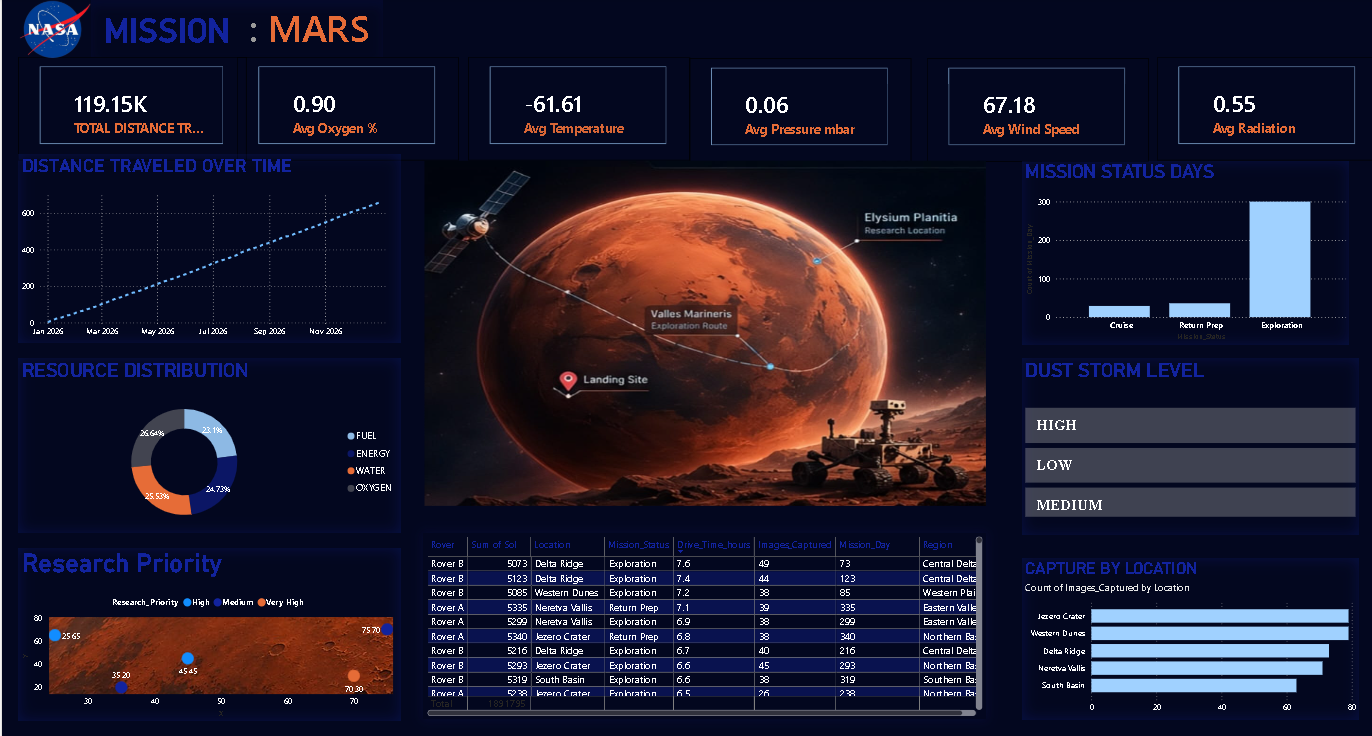

This screenshot's page, from the dashboard's own definition file:
{"tool":"powerbi","page":{"name":"Page 1","canvas":[2000,1080],"ordinal":0},"visuals":[{"type":"cardVisual","title":"DUST STORM LEVEL","fields":{"Rows":["Mars_Weather.Dust_Storm_Level"]},"box":[1482.6,525.1,490.6,258],"z":0},{"type":"cardVisual","fields":{"Data":["Sum(Mission_Log.Rover_Distance_km)"]},"box":[23.8,87.5,332.1,150.1],"z":1000},{"type":"cardVisual","fields":{"Data":["measures (2).Avg Oxygen %"]},"box":[341.6,87.2,322,150.8],"z":2000},{"type":"cardVisual","fields":{"Data":["measures (2).Avg Pressure mbar"]},"box":[999.3,89,322,150.1],"z":3000},{"type":"cardVisual","fields":{"Data":["measures (2).Avg Wind Speed"]},"box":[1344.5,89,322,150.1],"z":4000},{"type":"cardVisual","fields":{"Data":["measures (2).Avg Radiation"]},"box":[1678.8,87.2,322,150.8],"z":5000},{"type":"cardVisual","fields":{"Data":["measures (2).Avg Temperature"]},"box":[677.7,87.2,322,150.1],"z":6000},{"type":"textbox","box":[129,3.6,425.1,83.6],"z":7000},{"type":"lineChart","title":"DISTANCE TRAVELED OVER TIME ","fields":{"Category":["Mission_Log.Date.Variation.Date Hierarchy.Year","Mission_Log.Date.Variation.Date Hierarchy.Month","Mission_Log.Date.Variation.Date Hierarchy.Day"],"Y":["Sum(Mission_Log.Rover_Distance_km)"]},"box":[23.6,228.9,556,274.3],"z":8000},{"type":"donutChart","title":"RESOURCE DISTRIBUTION","fields":{"Y":["Sum(Resources.Fuel_Remaining_pct)","Sum(Resources.Energy_Remaining_pct)","Sum(Resources.Water_Remaining_pct)","Sum(Resources.Oxygen_Remaining_pct)"]},"box":[23.6,525.1,556,254.4],"z":9000},{"type":"columnChart","title":"MISSION STATUS DAYS ","fields":{"Category":["Mission_Log.Mission_Status"],"Y":["CountNonNull(Mission_Log.Mission_Day)"]},"box":[1482.6,238,476,267.1],"z":10000},{"type":"scatterChart","title":"Research Priority","fields":{"X":["Locations.X"],"Y":["Locations.Y"],"Series":["Locations.Research_Priority"]},"box":[23.6,801.2,556,250.7],"z":11000},{"type":"clusteredBarChart","title":"CAPTURE BY LOCATION","fields":{"Y":["CountNonNull(Rover_Activity.Images_Captured)"],"Category":["Mission_Log.Location"]},"box":[1482.6,815.8,490.6,234.4],"z":12000},{"type":"image","box":[614.1,238,815.8,501.5],"z":13000},{"type":"tableEx","fields":{"Values":["Rover_Activity.Rover","Sum(Mission_Log.Sol)","Mission_Log.Location","Mission_Log.Mission_Status","Rover_Activity.Drive_Time_hours","Rover_Activity.Images_Captured","Rover_Activity.Mission_Day","Locations.Region"]},"box":[612.3,779.4,817.6,270.7],"z":14000},{"type":"image","box":[23.6,5.5,107.2,83.6],"z":15000}]}

Visuals, with their boxes in screenshot pixels (x1, y1, x2, y2), scaled from the page's 2000x1080 canvas onto the 1372x736 screenshot:
"DUST STORM LEVEL" cardVisual: bbox=(1017, 358, 1354, 534)
cardVisual - Sum(Mission_Log.Rover_Distance_km): bbox=(16, 60, 244, 162)
cardVisual - measures (2).Avg Oxygen %: bbox=(234, 59, 455, 162)
cardVisual - measures (2).Avg Pressure mbar: bbox=(686, 61, 906, 163)
cardVisual - measures (2).Avg Wind Speed: bbox=(922, 61, 1143, 163)
cardVisual - measures (2).Avg Radiation: bbox=(1152, 59, 1371, 162)
cardVisual - measures (2).Avg Temperature: bbox=(465, 59, 686, 162)
textbox: bbox=(88, 2, 380, 59)
"DISTANCE TRAVELED OVER TIME " lineChart: bbox=(16, 156, 398, 343)
"RESOURCE DISTRIBUTION" donutChart: bbox=(16, 358, 398, 531)
"MISSION STATUS DAYS " columnChart: bbox=(1017, 162, 1344, 344)
"Research Priority" scatterChart: bbox=(16, 546, 398, 717)
"CAPTURE BY LOCATION" clusteredBarChart: bbox=(1017, 556, 1354, 716)
image: bbox=(421, 162, 981, 504)
tableEx - Rover_Activity.Rover x Sum(Mission_Log.Sol): bbox=(420, 531, 981, 716)
image: bbox=(16, 4, 90, 61)
